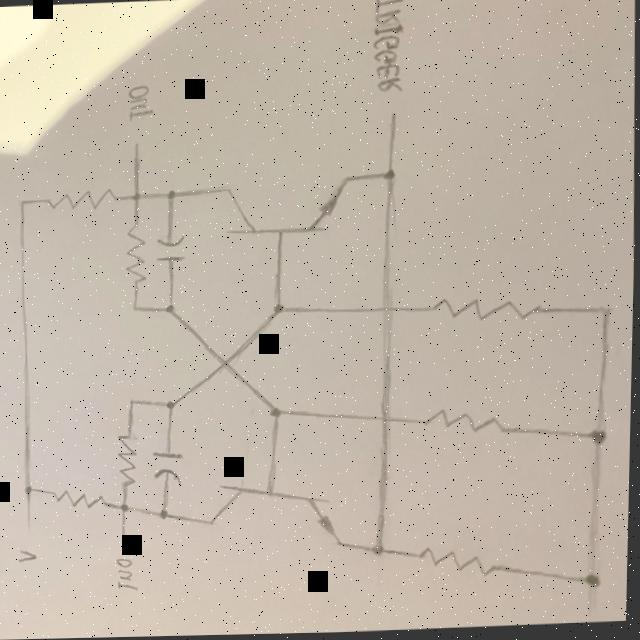capacitor: (148, 444, 190, 489), (152, 229, 190, 272)
crossover: (208, 348, 243, 379), (373, 295, 406, 324), (368, 407, 403, 434)
junction: (579, 420, 621, 454), (570, 561, 615, 592), (586, 298, 623, 330), (362, 538, 394, 566), (261, 396, 291, 423), (155, 393, 185, 418), (155, 183, 185, 206), (264, 299, 292, 321), (373, 163, 401, 185), (151, 504, 178, 524), (157, 298, 181, 318), (125, 188, 147, 205), (17, 482, 40, 498), (114, 499, 137, 515), (121, 391, 143, 406), (127, 301, 147, 315), (16, 194, 32, 210)
resistor: (428, 290, 549, 328), (422, 404, 519, 443), (416, 544, 503, 583), (113, 425, 144, 490), (43, 187, 120, 213), (123, 219, 149, 286), (51, 486, 110, 511)
terminal: (380, 102, 405, 135), (581, 595, 608, 624), (123, 132, 150, 157), (18, 514, 41, 542), (114, 532, 133, 554)
text: (365, 0, 411, 96), (119, 81, 160, 121), (111, 554, 144, 595), (14, 547, 42, 567)
transistor: (206, 477, 346, 557), (211, 172, 355, 241)
